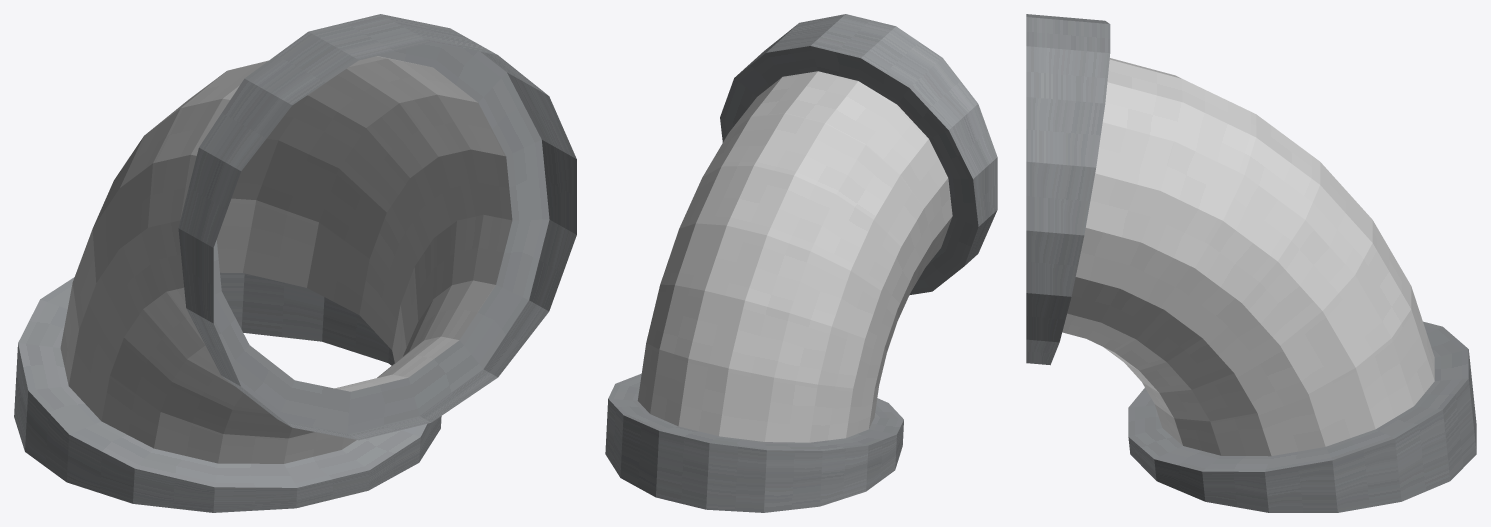
The model's file is connection_9.obj.
3 renders of one model, left to right at view 1: azimuth 30°, elevation 25°; view 2: azimuth 150°, elevation 25°; view 3: azimuth 270°, elevation 25°, orthographic. The views are drawn at different scales.
Bounding box in the file's own units: 0.625 × 0.8125 × 0.8125.
